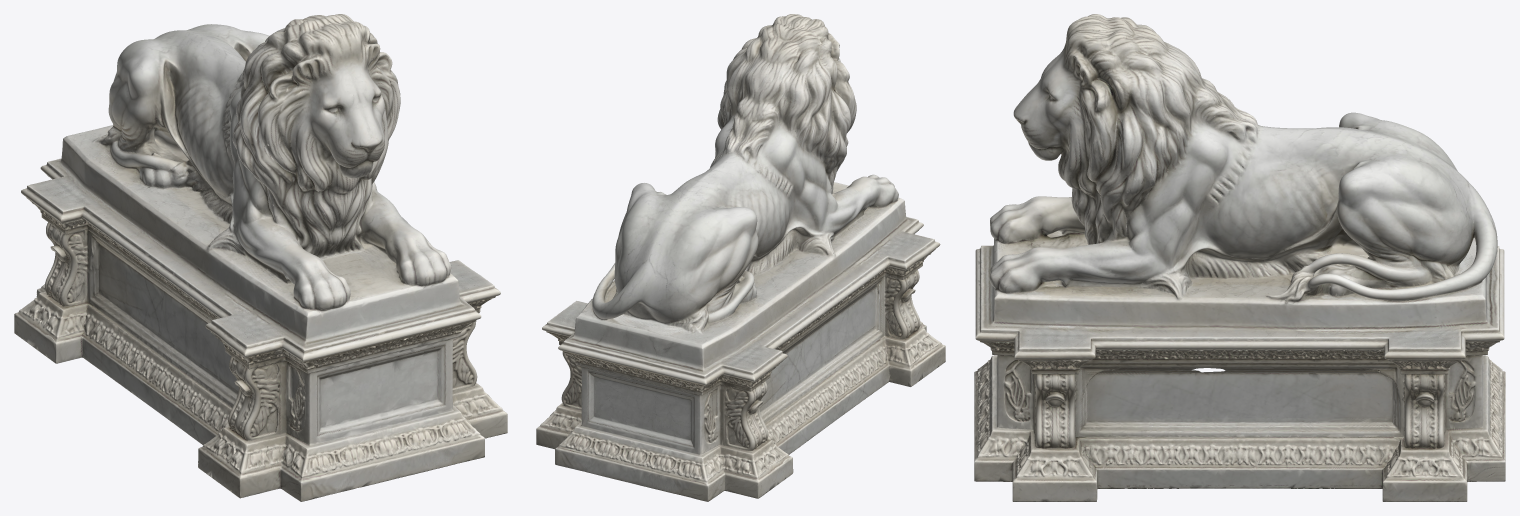
File: lion.glb
3 views of the same model, side by side, from view 1: azimuth 30°, elevation 25°; view 2: azimuth 150°, elevation 25°; view 3: azimuth 270°, elevation 25° (orthographic). The views are drawn at different scales.
Parts seen in each view (by area): view 1: lion; view 2: lion; view 3: lion.
Boxes of the visible parts, left/top/right/bottom form: lion: left=14, top=14, right=507, bottom=501; lion: left=536, top=14, right=945, bottom=501; lion: left=974, top=14, right=1505, bottom=501.
Bounding box in the file's own units: 111 × 163 × 190.
1 material, 1 textured.
